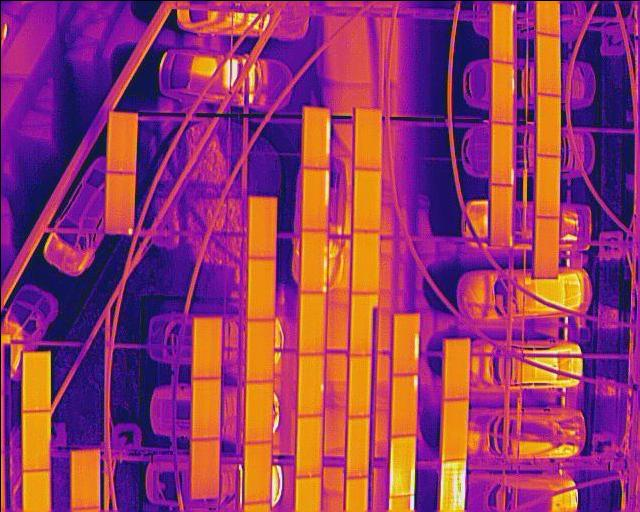Cell: (104, 173, 134, 233), (296, 350, 323, 416)
No-Anomaly: (243, 319, 274, 382), (105, 111, 137, 172), (245, 196, 276, 257), (69, 448, 100, 509), (21, 408, 50, 472), (191, 316, 221, 377), (190, 377, 219, 440), (245, 256, 274, 319), (351, 168, 380, 231), (294, 414, 323, 477), (350, 229, 378, 294), (352, 108, 381, 169), (242, 441, 270, 504), (439, 397, 467, 460), (21, 352, 50, 412), (533, 154, 560, 218), (244, 381, 272, 442), (297, 291, 324, 354), (348, 291, 373, 357), (531, 216, 558, 277), (190, 437, 217, 498), (534, 93, 560, 156), (345, 353, 370, 418), (344, 414, 369, 478), (443, 338, 468, 400), (488, 182, 512, 245), (535, 32, 559, 95), (490, 60, 513, 122), (490, 1, 513, 61)
Unclassified: (298, 228, 327, 292), (390, 370, 417, 438), (300, 106, 329, 169), (391, 313, 419, 375), (388, 432, 415, 496), (300, 169, 328, 230), (438, 459, 466, 512), (490, 122, 513, 185)
